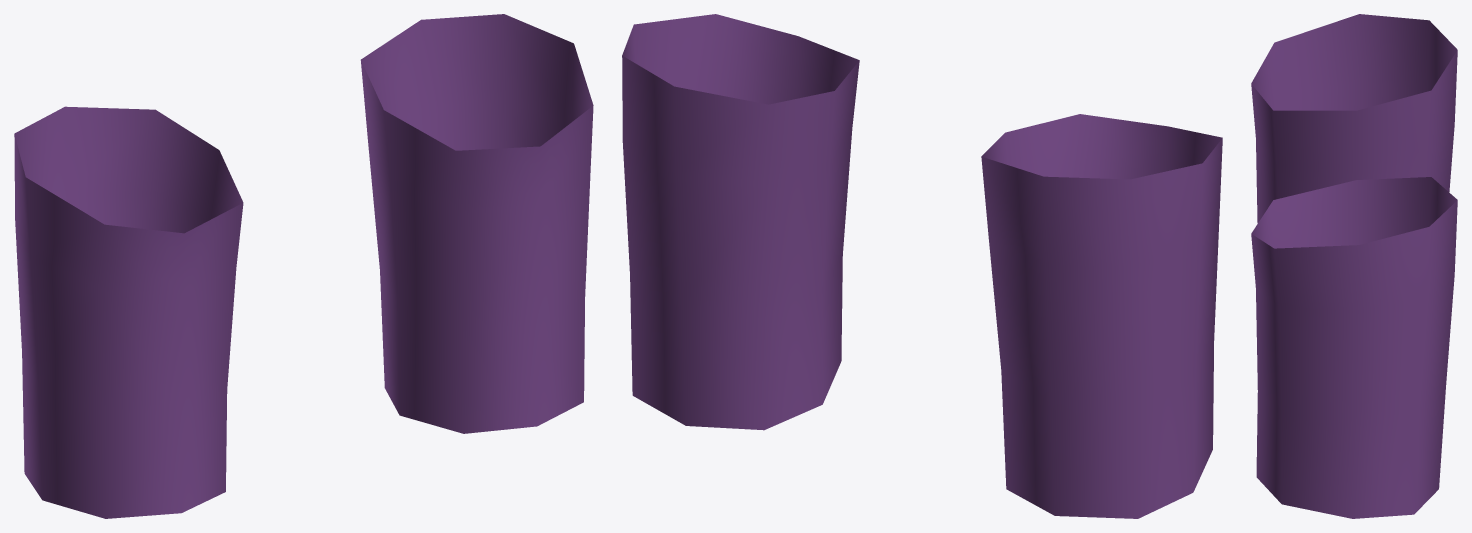
Rendered from Body_Purple_LegA_2.fbx.
3 renders of one model, left to right at view 1: azimuth 30°, elevation 25°; view 2: azimuth 150°, elevation 25°; view 3: azimuth 270°, elevation 25°, orthographic. The views are drawn at different scales.
Visible parts, largest first — view 1: Body_Purple_LegA_2; view 2: Body_Purple_LegA_2; view 3: Body_Purple_LegA_2.
Part boxes in pixels (x1,y1,x2,y2): Body_Purple_LegA_2: [14, 14, 593, 518]; Body_Purple_LegA_2: [622, 14, 1222, 518]; Body_Purple_LegA_2: [1251, 14, 1457, 518].
Size of the model in its own units: 31.33 by 18.38 by 11.84.
